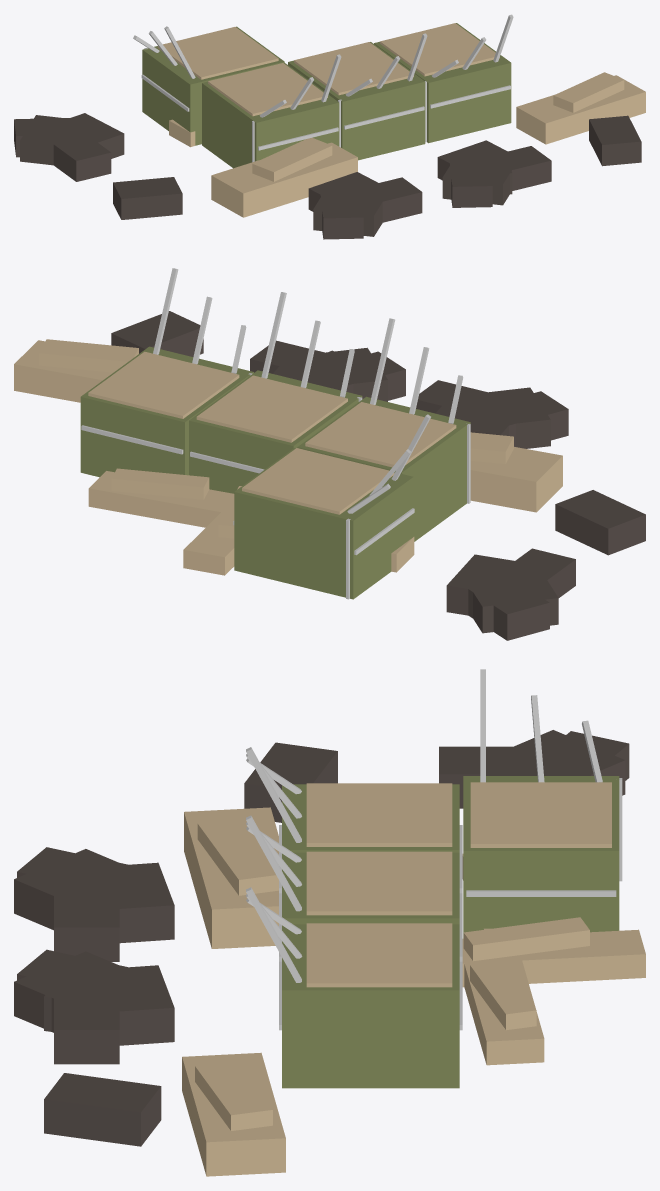
Rendered from SM_HescoRemate_v0_MallaLimpia_e2_MuyDanado_LOD0.fbx.
3 views of the same model, one above another, from view 1: azimuth 30°, elevation 25°; view 2: azimuth 150°, elevation 25°; view 3: azimuth 270°, elevation 25° (orthographic). The views are drawn at different scales.
Parts seen in each view (by area): view 1: SM_hesco_piezas_v22_LOD0; view 2: SM_hesco_piezas_v22_LOD0; view 3: SM_hesco_piezas_v22_LOD0.
Part boxes in pixels (<box>): SM_hesco_piezas_v22_LOD0: <box>14,14,645,239</box>; SM_hesco_piezas_v22_LOD0: <box>14,268,645,640</box>; SM_hesco_piezas_v22_LOD0: <box>14,669,645,1176</box>.
Size of the model in its own units: 6.71 by 1.48 by 4.34.
